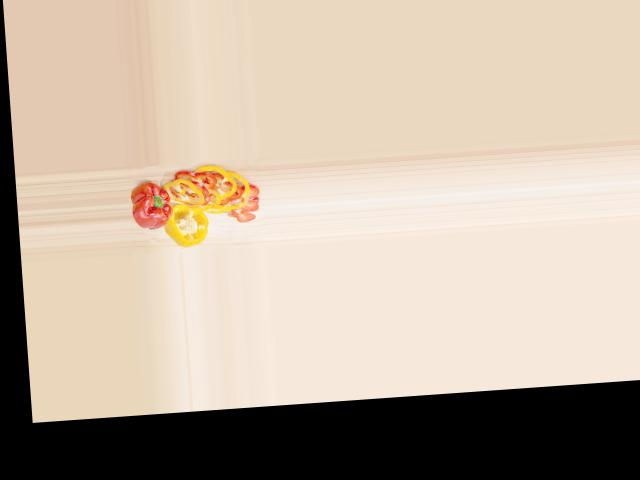bell_pepper: (165, 202, 212, 250)
